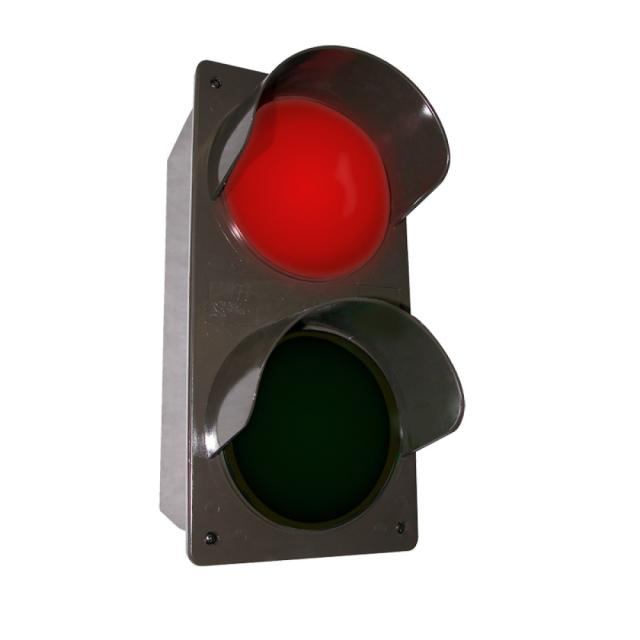red: (237, 80, 395, 282)
